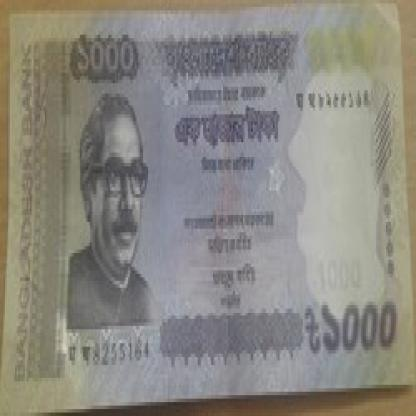One Thousand taka: (301, 298, 401, 364), (72, 35, 140, 83)
